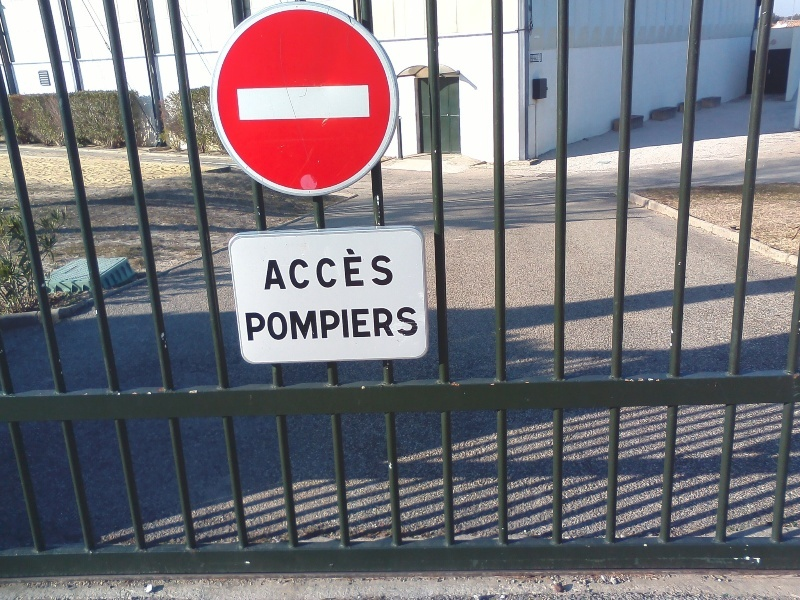text: (273, 245, 288, 292), (289, 245, 304, 292), (305, 245, 320, 292), (321, 245, 336, 292), (337, 245, 352, 292), (353, 245, 368, 292), (369, 245, 384, 292), (257, 306, 272, 342), (273, 306, 288, 342), (289, 306, 304, 342), (305, 306, 320, 342), (321, 306, 336, 342), (337, 306, 352, 342), (353, 306, 368, 342), (369, 306, 384, 342), (385, 306, 400, 342), (401, 306, 416, 342), (243, 306, 256, 342), (385, 245, 394, 292), (417, 306, 420, 342), (270, 245, 272, 292)
